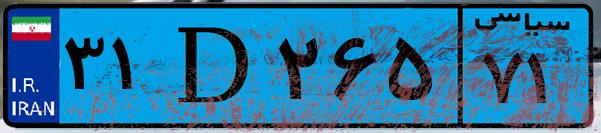1: (525, 38, 570, 115), (110, 28, 158, 98)
2: (270, 28, 330, 110)
3: (57, 26, 110, 100)
5: (385, 28, 445, 110)
6: (330, 28, 385, 110)
7: (475, 38, 525, 113)
D: (158, 12, 270, 120)
